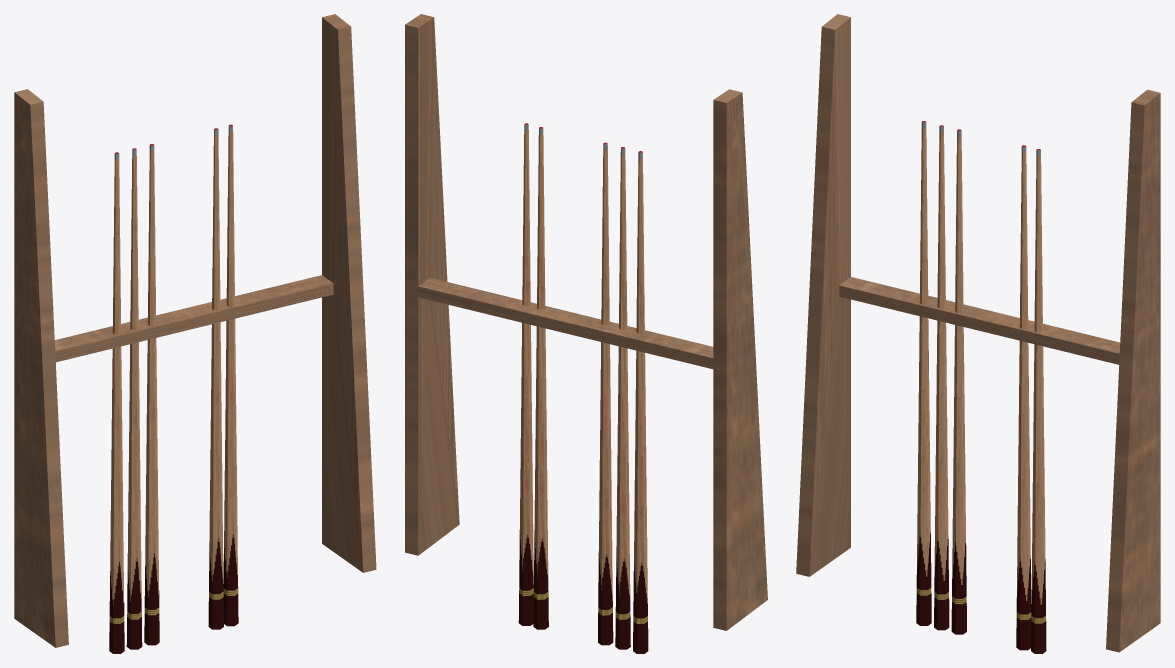
The model's file is rack.obj.
The picture shows the model from 3 angles, left to right: view 1: azimuth 30°, elevation 25°; view 2: azimuth 150°, elevation 25°; view 3: azimuth 330°, elevation 25°; orthographic projection.
Parts seen in each view (by area): view 1: Cube.001; view 2: Cube.001; view 3: Cube.001.
Part boxes in pixels (x1,y1,x2,y2): Cube.001: (14, 14, 376, 653); Cube.001: (405, 14, 767, 653); Cube.001: (796, 14, 1160, 653).
Bounding box in the file's own units: 1.1 × 1.88 × 0.2445.
Materials: 2 (2 with a texture image).
